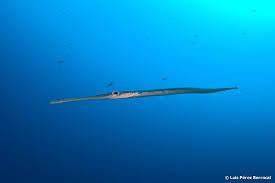Fistularia commersonii: (47, 84, 239, 104)
